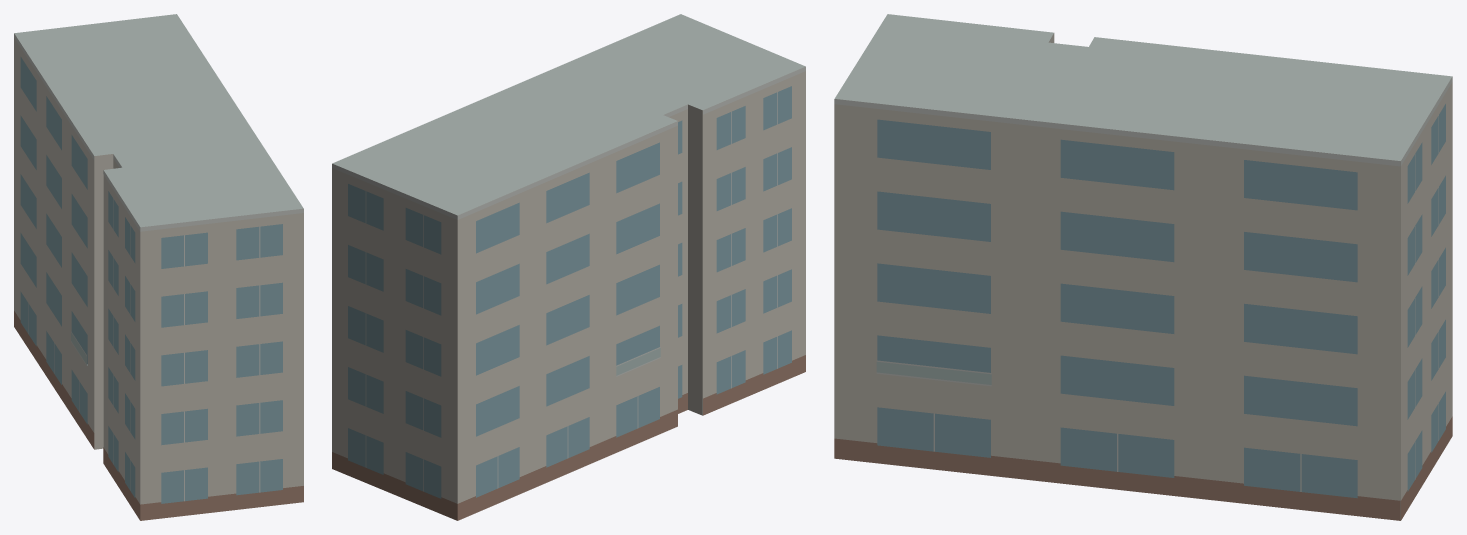
File: survey-upis-32752214.glb
3 views of the same model, side by side, from view 1: azimuth 30°, elevation 25°; view 2: azimuth 150°, elevation 25°; view 3: azimuth 270°, elevation 25° (orthographic). The views are drawn at different scales.
Visible parts, largest first — view 1: survey-upis-32752214.tmp; view 2: survey-upis-32752214.tmp; view 3: survey-upis-32752214.tmp.
Part boxes in pixels (x1,y1,x2,y2): survey-upis-32752214.tmp: (14, 14, 303, 520); survey-upis-32752214.tmp: (332, 14, 805, 520); survey-upis-32752214.tmp: (834, 14, 1452, 520).
Bounding box in the file's own units: 14.44 × 16.45 × 25.62.
